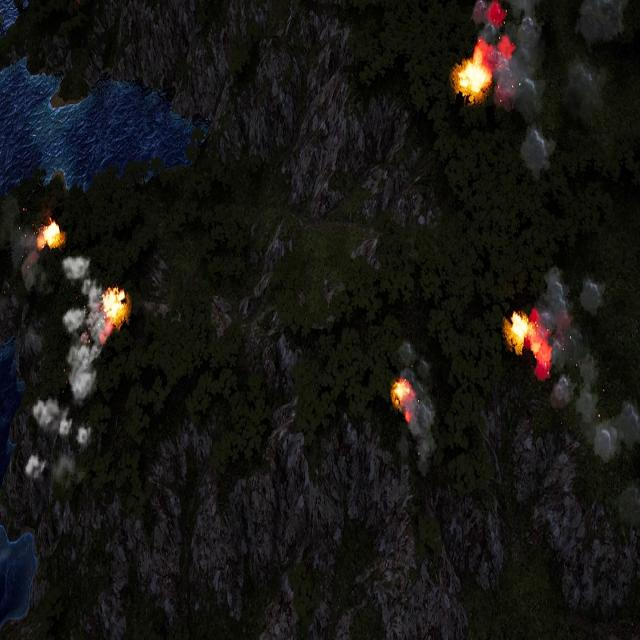fire: (508, 313, 550, 379), (455, 44, 491, 98), (103, 288, 128, 330), (39, 221, 61, 250), (392, 379, 412, 407)
smoke: (474, 0, 639, 176), (528, 271, 637, 469), (19, 256, 104, 487), (396, 341, 440, 479)
